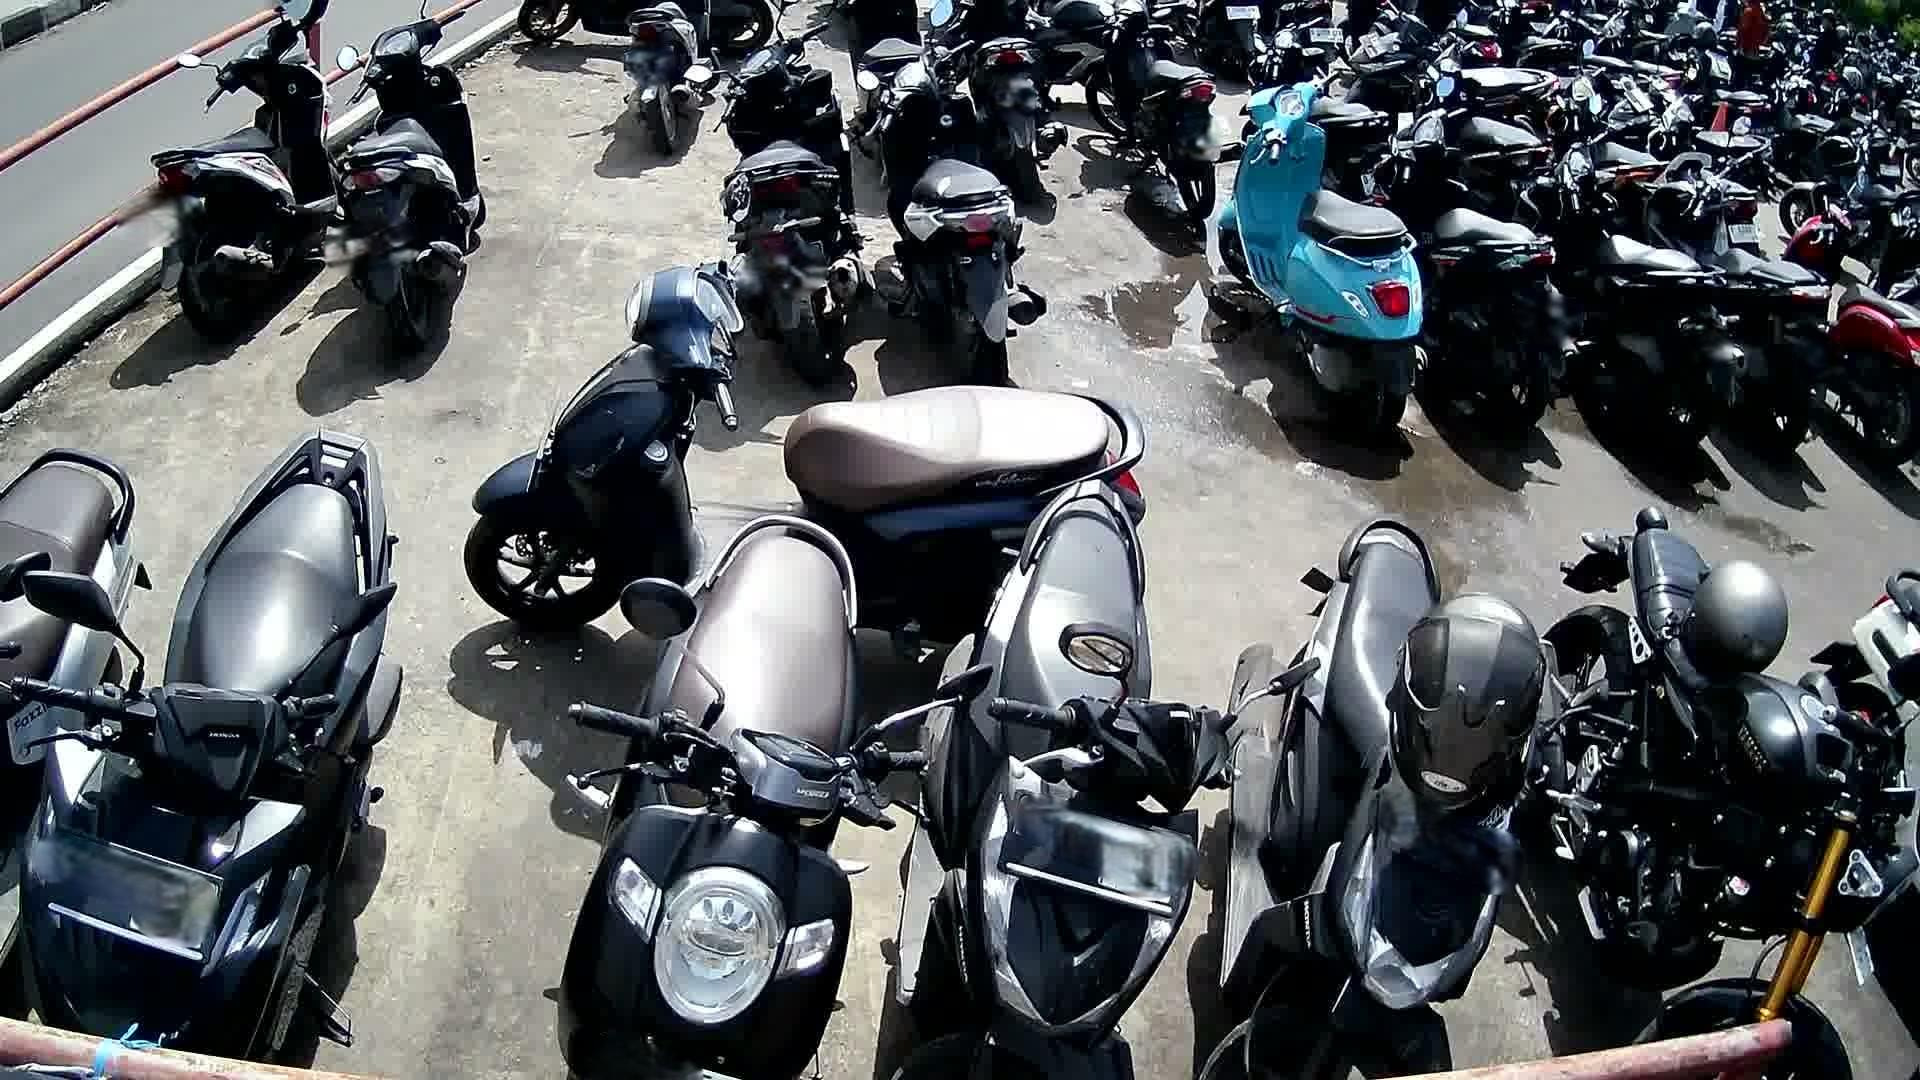motorcycle: (463, 253, 1148, 633), (13, 432, 403, 1057), (1547, 504, 1920, 1080), (554, 513, 925, 1080), (896, 480, 1245, 1080), (1214, 519, 1552, 1080), (1505, 93, 1751, 455), (1210, 63, 1430, 448), (0, 444, 151, 971), (1360, 79, 1575, 440), (854, 3, 1050, 375), (686, 17, 879, 372), (145, 13, 344, 340), (1628, 154, 1833, 465), (334, 7, 490, 351), (1778, 165, 1920, 468)
